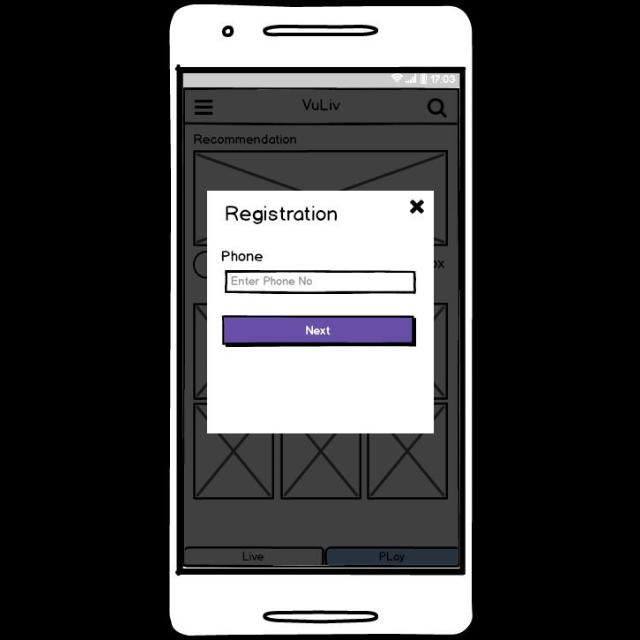icon: (408, 198, 426, 216)
input: (225, 270, 417, 294)
panel: (208, 190, 434, 434)
text: (225, 204, 338, 226), (220, 250, 264, 262)
textbutton: (222, 315, 416, 347)
